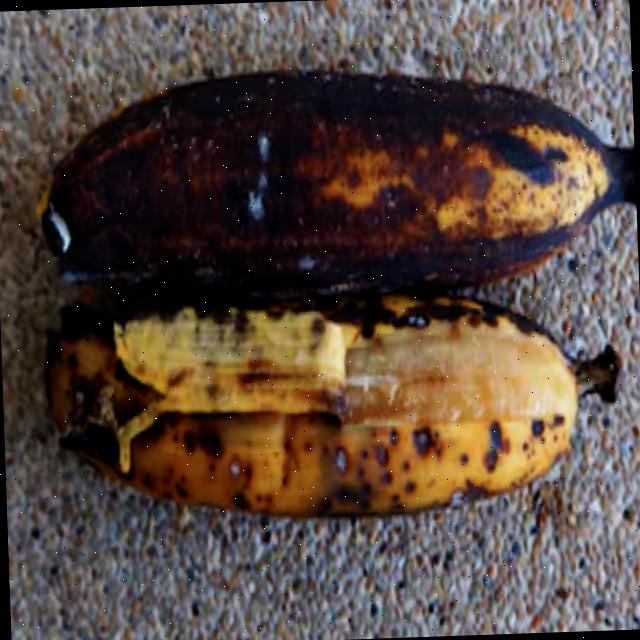rotten banana: (30, 29, 640, 631)
